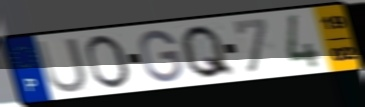4: (285, 12, 324, 71)
7: (231, 17, 271, 77)
G: (137, 28, 185, 84)
O: (83, 33, 134, 91)
Q: (178, 23, 239, 81)
U: (34, 36, 90, 96)
